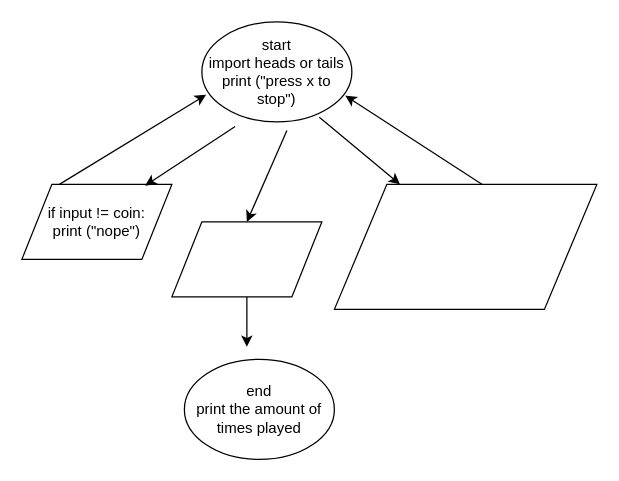
Image size: 619x481. Some labels were removed from this diagram. Here are the shapes that lost their labels. From the top down, the box of each, then its label:
(171, 221, 322, 297): if input = "x":
(333, 183, 597, 309): if input = coin: print ("you win")
